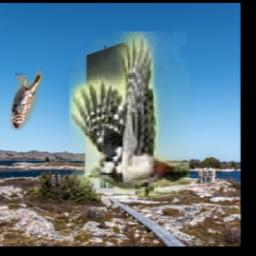Sparrow: (10, 71, 43, 131)
Woodpecker: (70, 32, 191, 199)
